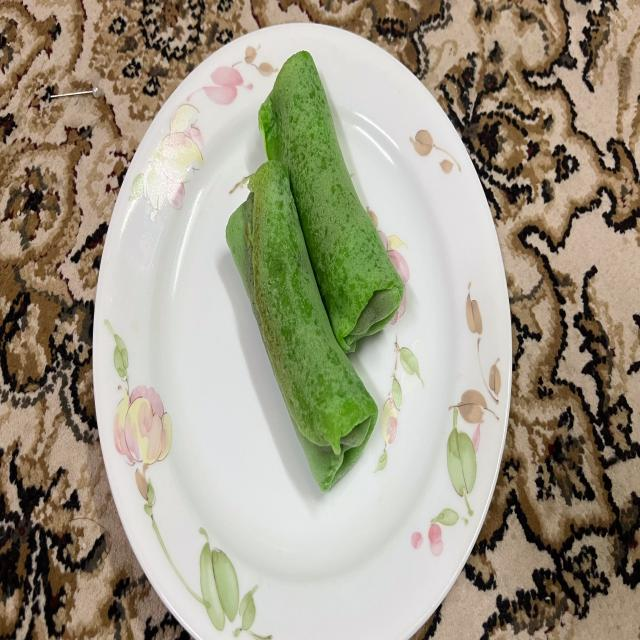Kuih-Ketayap: (226, 160, 378, 491), (259, 51, 402, 351)
